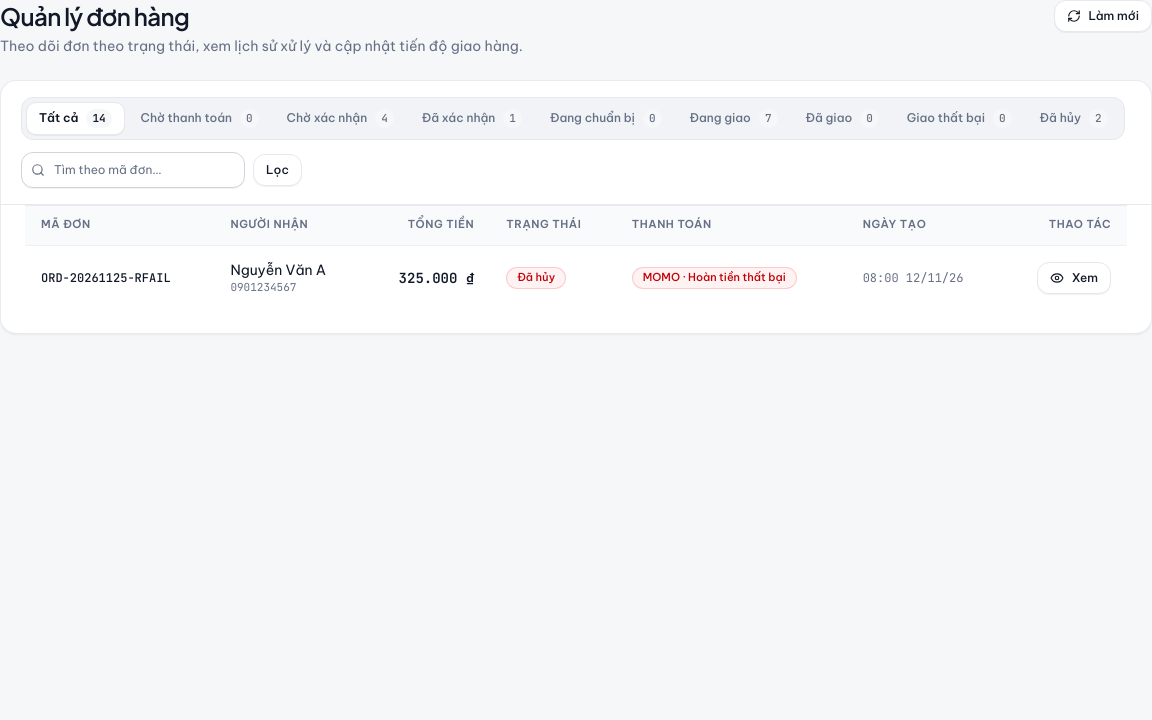
Scenario: OrdersPage › shows manual refund action for REFUND_FAILED MoMo orders and updates to REFUNDED on confirm
Click the button with aria-label "xem đơn ORD-20261125-RFAIL".
click(1074, 278)  # box 1037,262 -> 1111,294
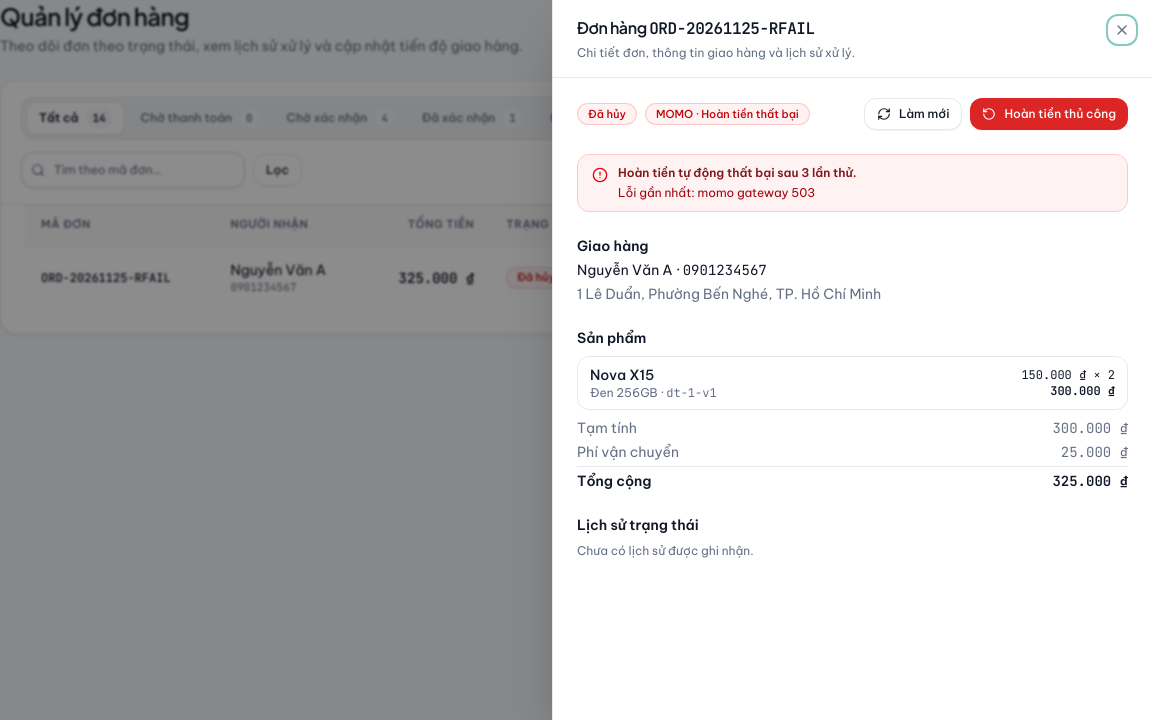
expect the text "MOMO · Hoàn tiền thất bại" next to "08:00 12/11/26" is shown: met, box 688,270 -> 786,284
expect the text "Lỗi gần nhất: momo gateway 503" is shown: met, box 618,185 -> 815,200
Click the button "Hoàn tiền thủ công".
click(1049, 114)  # box 970,98 -> 1128,130
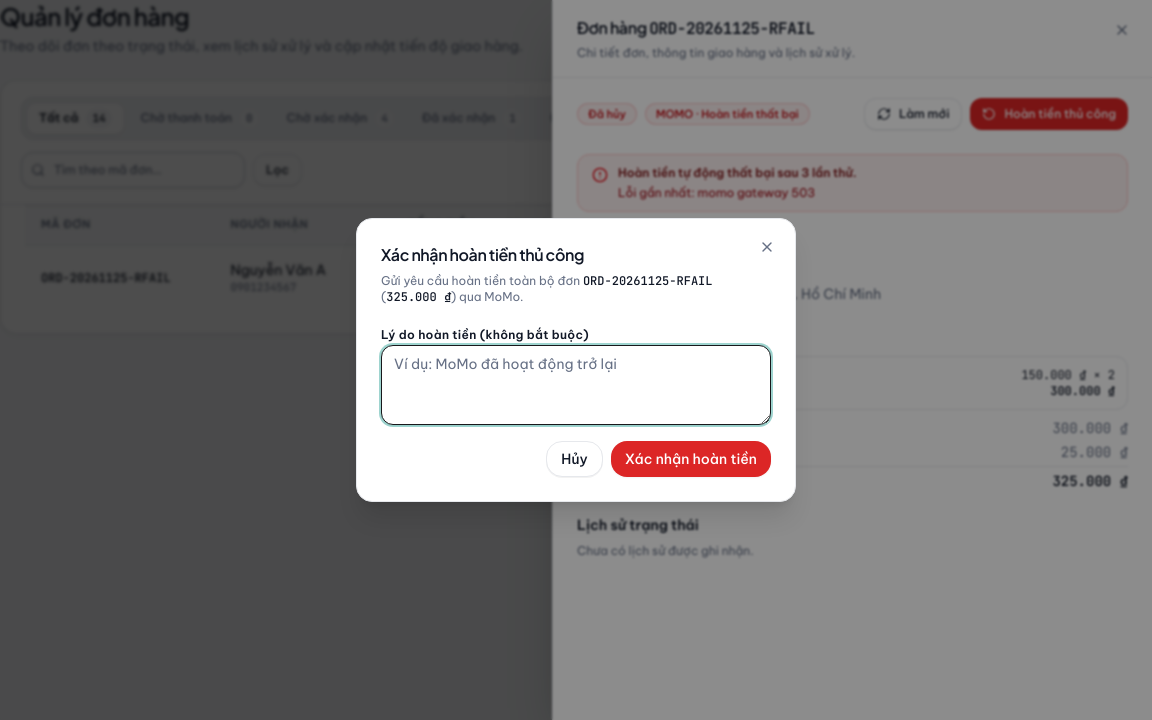
Type "MoMo đã phục hồi" into the text box labelled "Lý do hoàn tiền (không bắt buộc)".
click(576, 385); type("MoMo đã phục hồi")  # box 381,345 -> 771,425
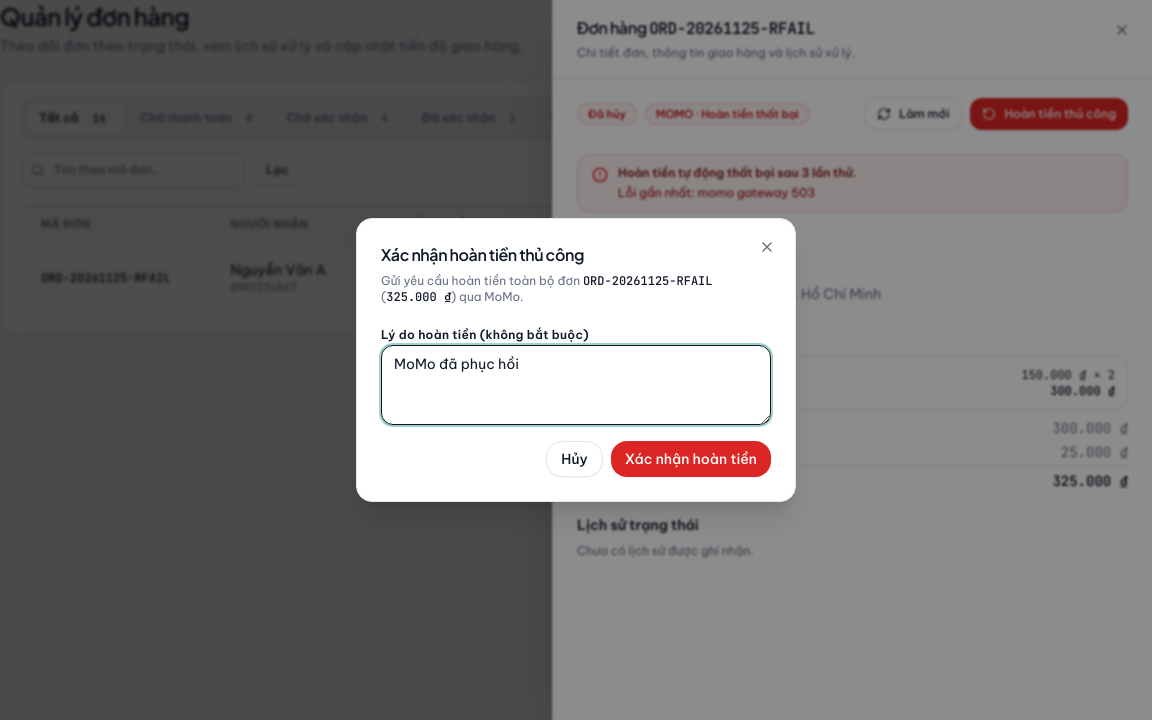
Click the button "Xác nhận hoàn tiền".
click(691, 459)  # box 611,441 -> 771,477
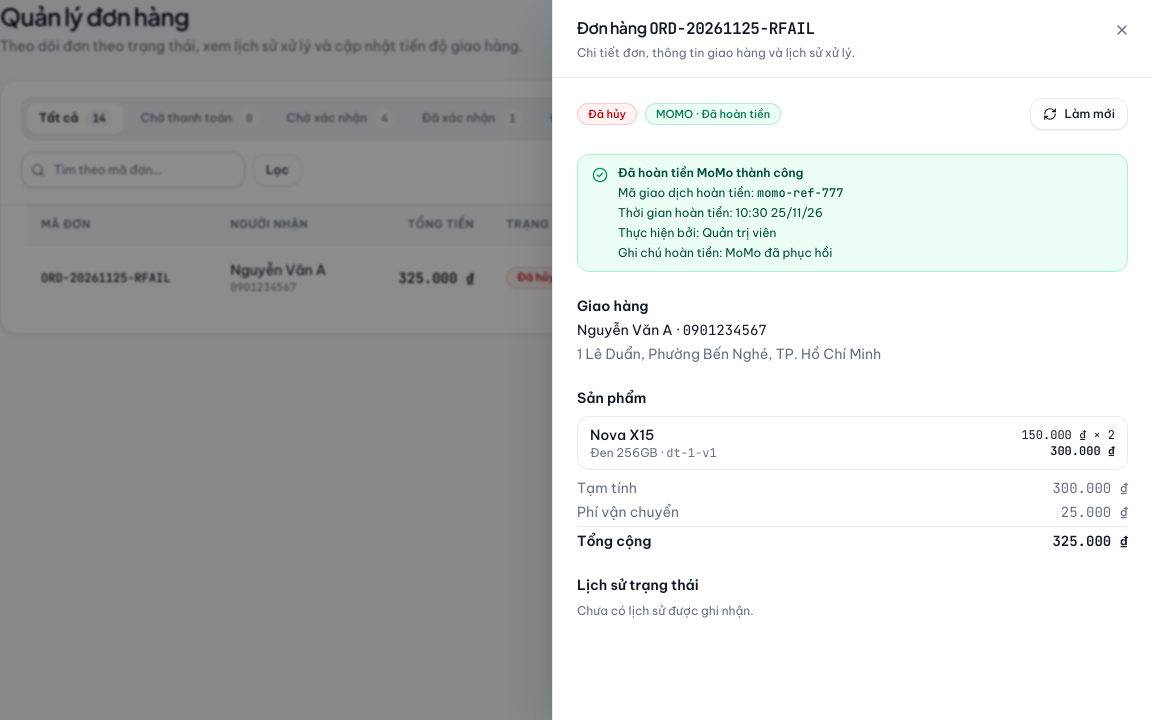
expect the text "momo-ref-777" is shown: met, box 757,185 -> 843,201
expect the text "MOMO · Đã hoàn tiền" is shown: met, box 645,103 -> 781,125
